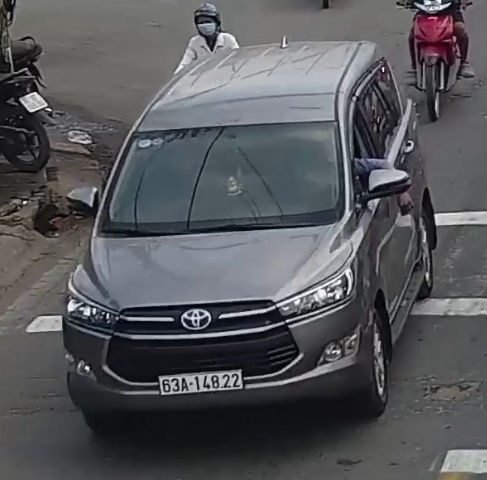vehicle plate: (154, 368, 252, 394)
